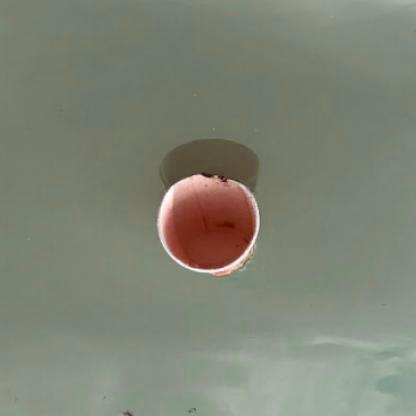Plastic: (154, 169, 262, 281)
